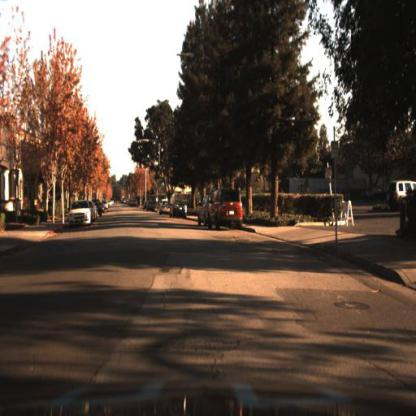car: (208, 189, 244, 233), (66, 193, 94, 233), (193, 196, 211, 238), (69, 201, 94, 226), (169, 198, 192, 222), (159, 197, 174, 220)
